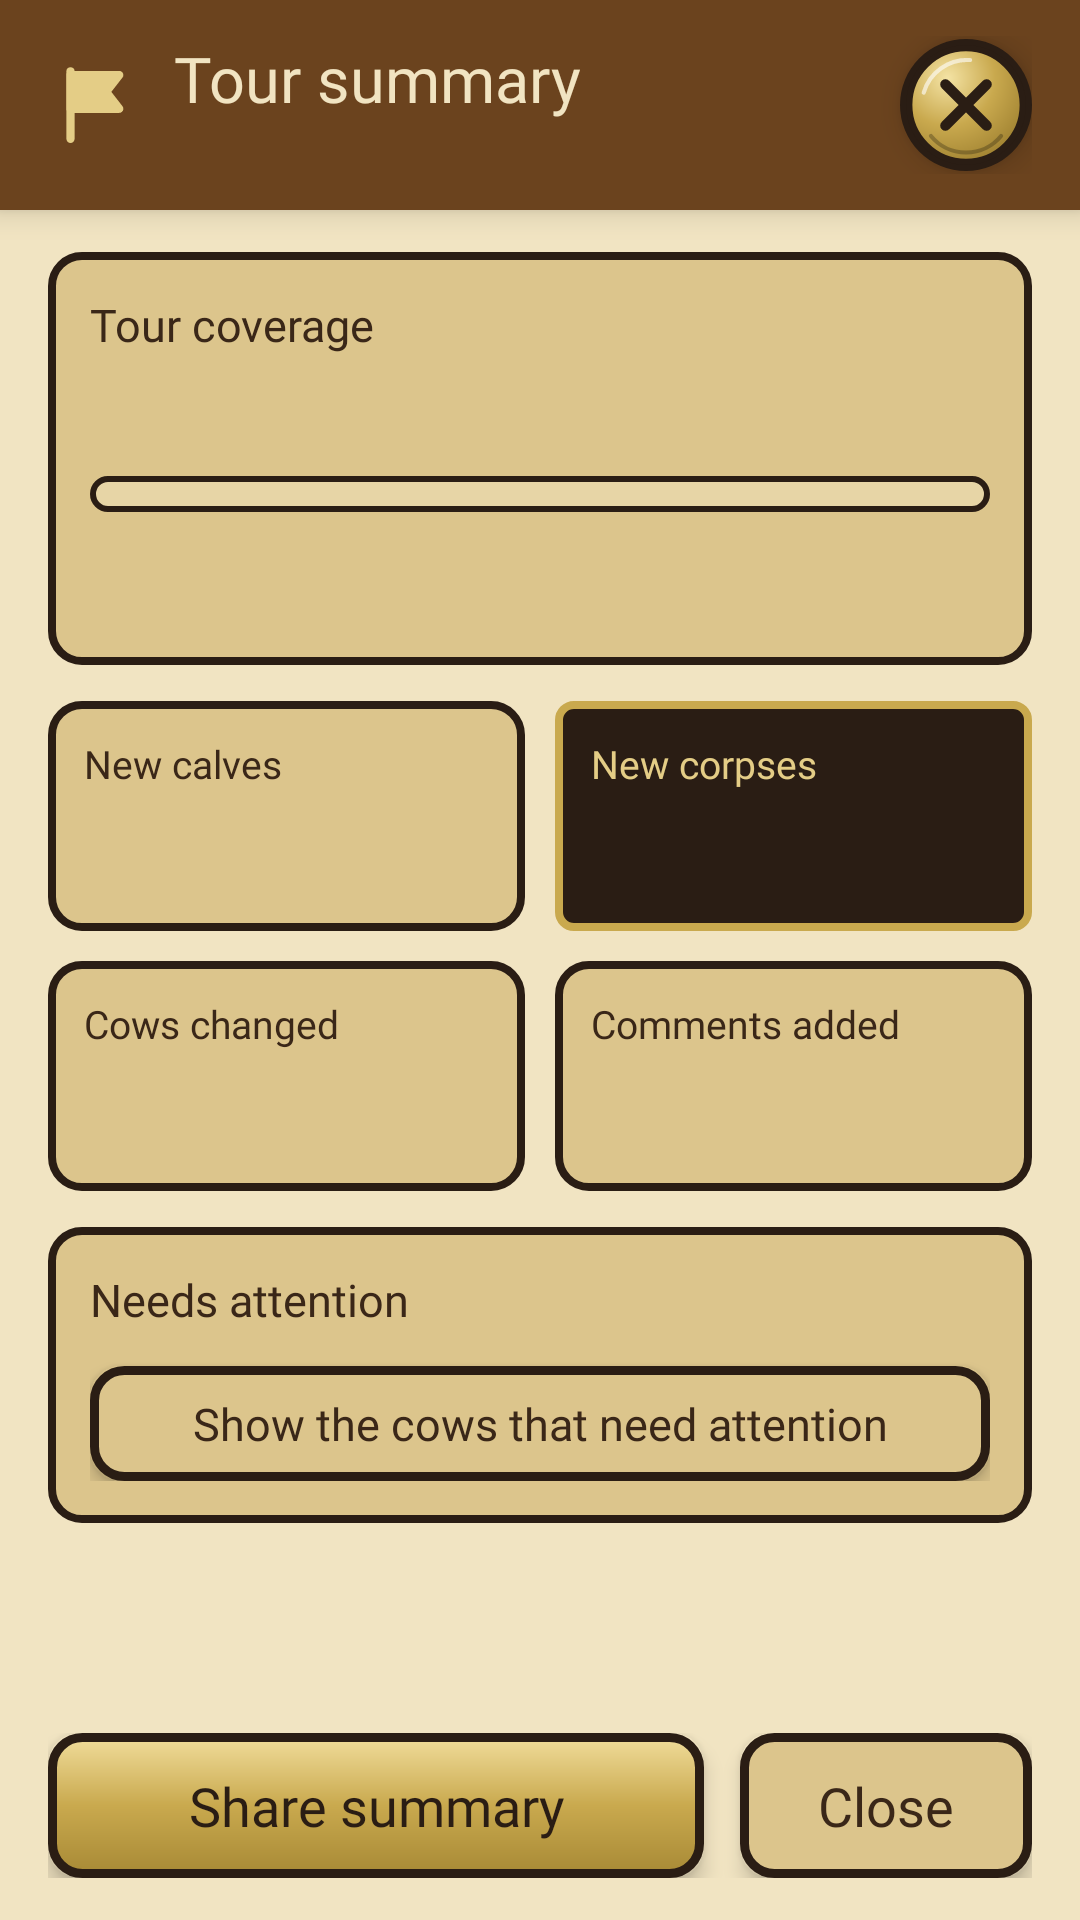

Where icons sit on this 1080w x 1920h app screen, as bbox=[x1, y1, x2, y2]:
Close: bbox=[900, 39, 1032, 171]
tour flag: bbox=[66, 67, 124, 143]
